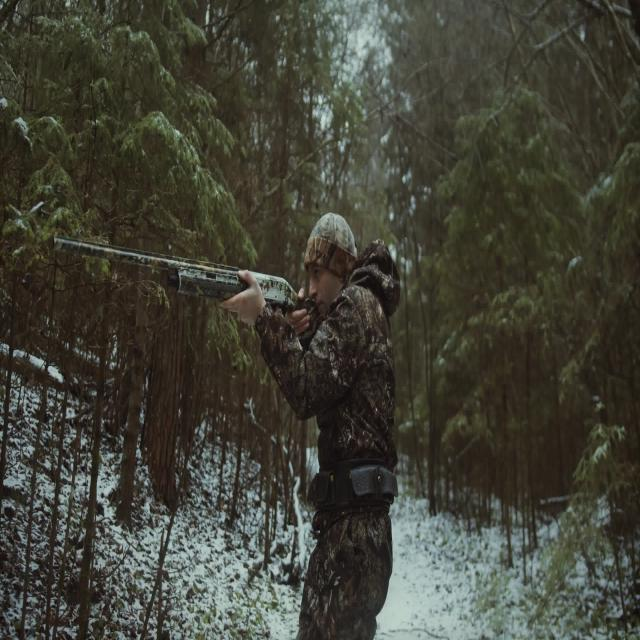ranger: (251, 130, 469, 618)
weapon: (30, 213, 324, 298)
